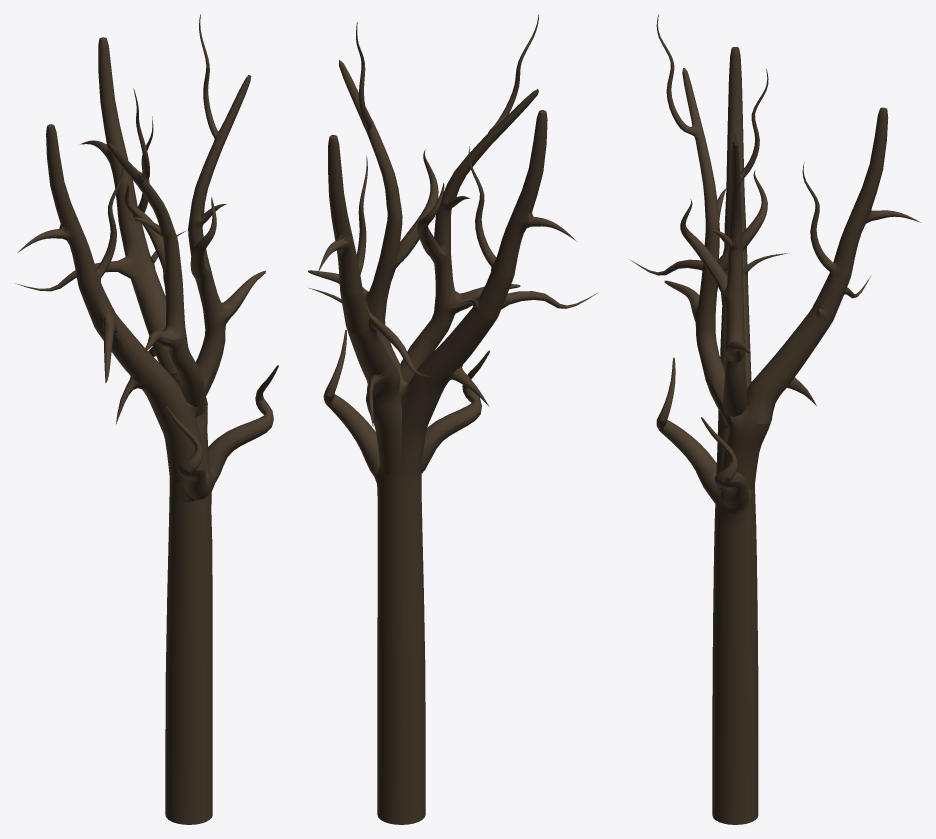
Rendered from tree-dead.glb.
The picture shows the model from 3 angles, left to right: view 1: azimuth 30°, elevation 25°; view 2: azimuth 150°, elevation 25°; view 3: azimuth 270°, elevation 25°; orthographic projection. The views are drawn at different scales.
Visible parts, largest first — view 1: pCylinder1, pasted__pCylinder1; view 2: pCylinder1, pasted__pCylinder1; view 3: pCylinder1, pasted__pCylinder1.
Boxes of the visible parts, x1,y1,x2,y2 form: pCylinder1: (17,14,278,824); pasted__pCylinder1: (15,37,211,503); pCylinder1: (308,22,597,824); pasted__pCylinder1: (309,14,538,496); pCylinder1: (629,47,789,824); pasted__pCylinder1: (656,14,920,506).
Size of the model in its own units: 0.0368 by 0.1072 by 0.0376.
